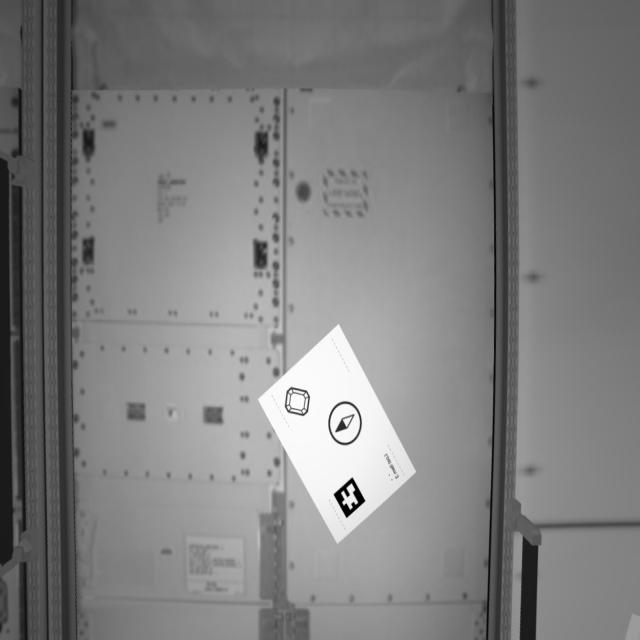compass: (328, 397, 364, 447)
emerald: (284, 385, 313, 420)
